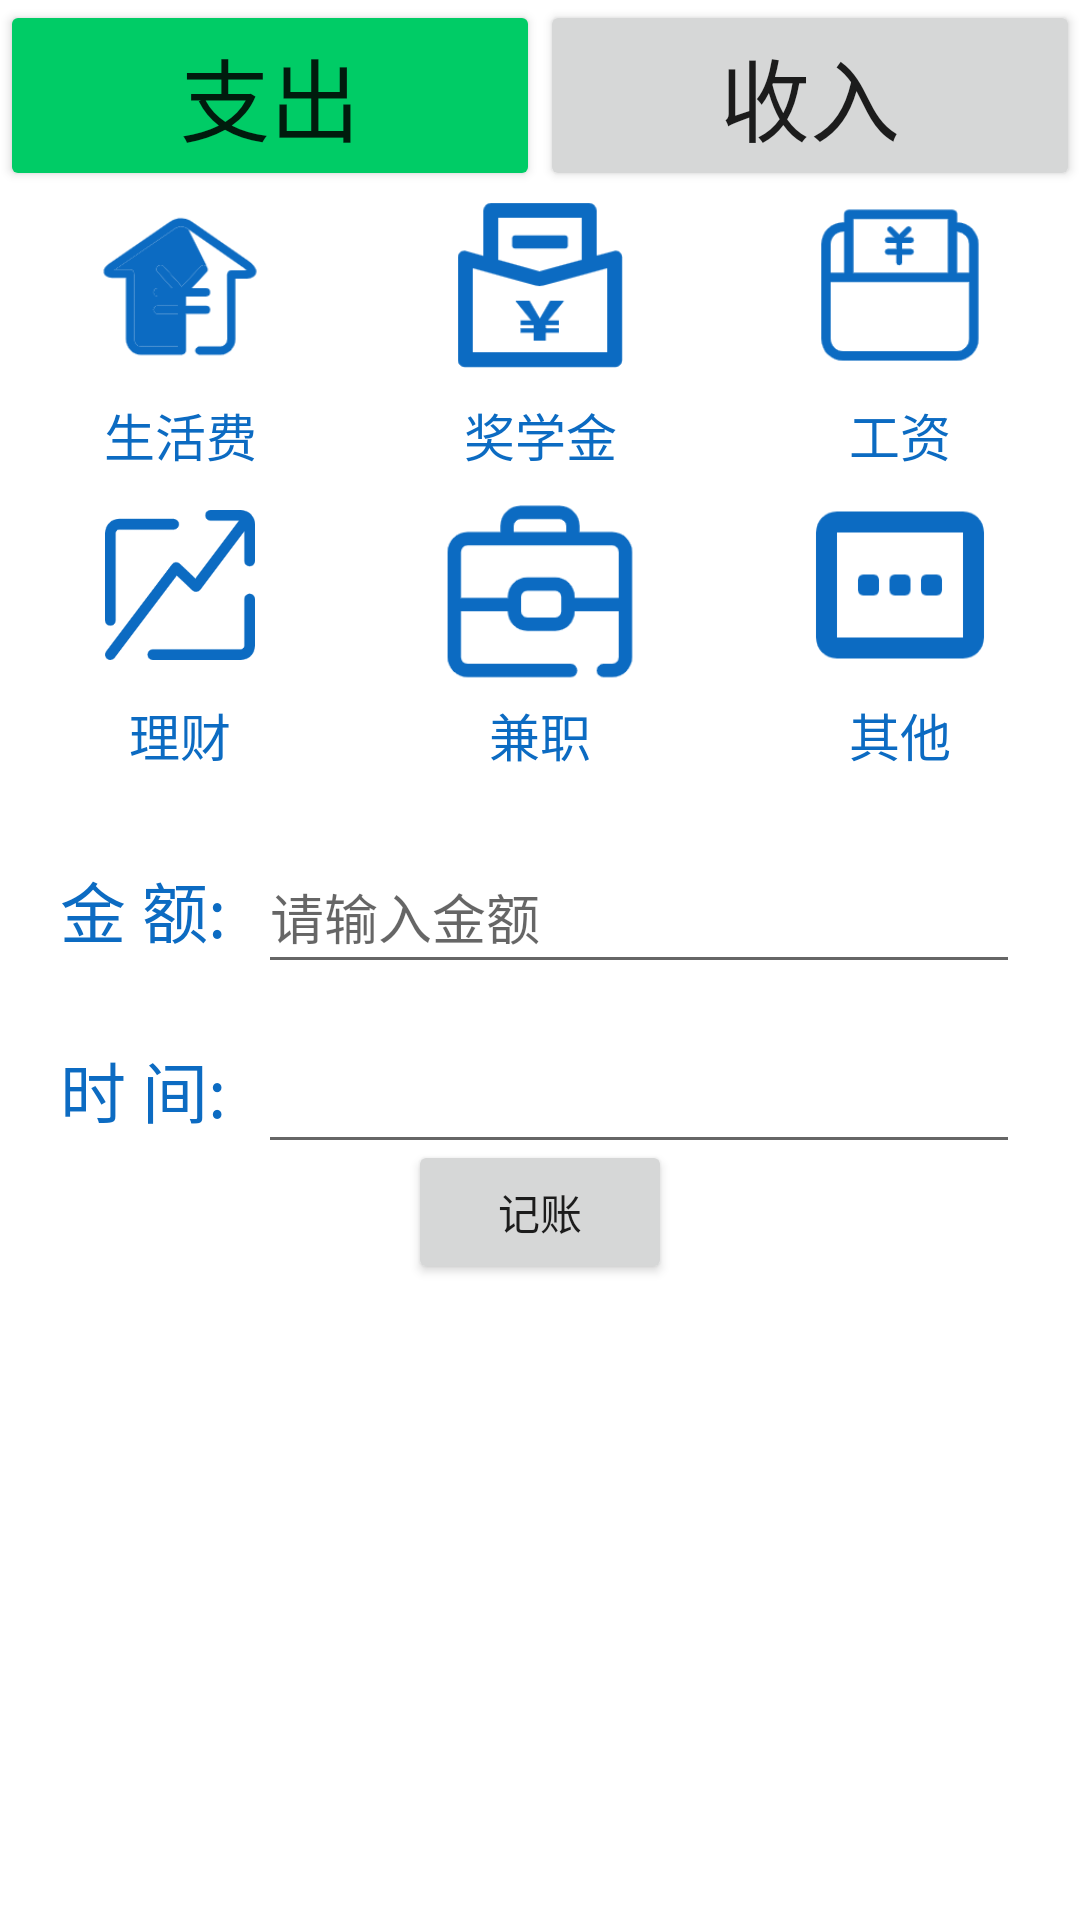

Screen size 1080 × 1920. Icon name, then its center in pixels as (x=x, y=y):
income financial: (x=180, y=585)
